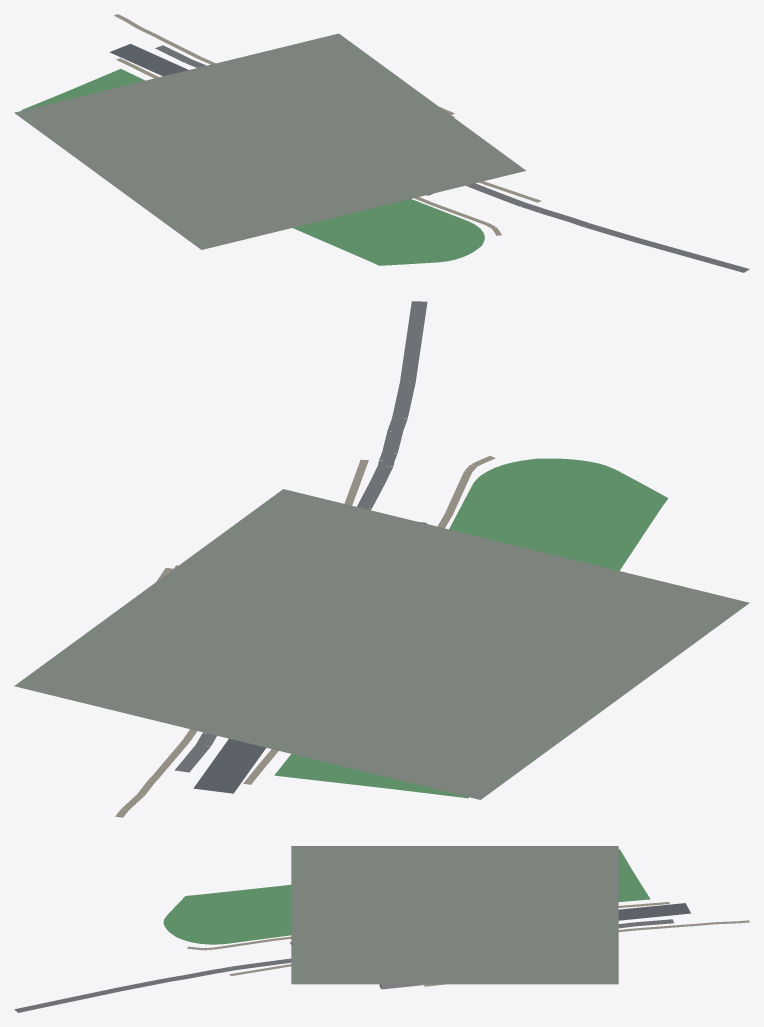
The picture shows the model from 3 angles, top to bottom: view 1: azimuth 30°, elevation 25°; view 2: azimuth 150°, elevation 25°; view 3: azimuth 270°, elevation 25°; orthographic projection. The views are drawn at different scales.
Size of the model in its own units: 154 by 12.02 by 288.
